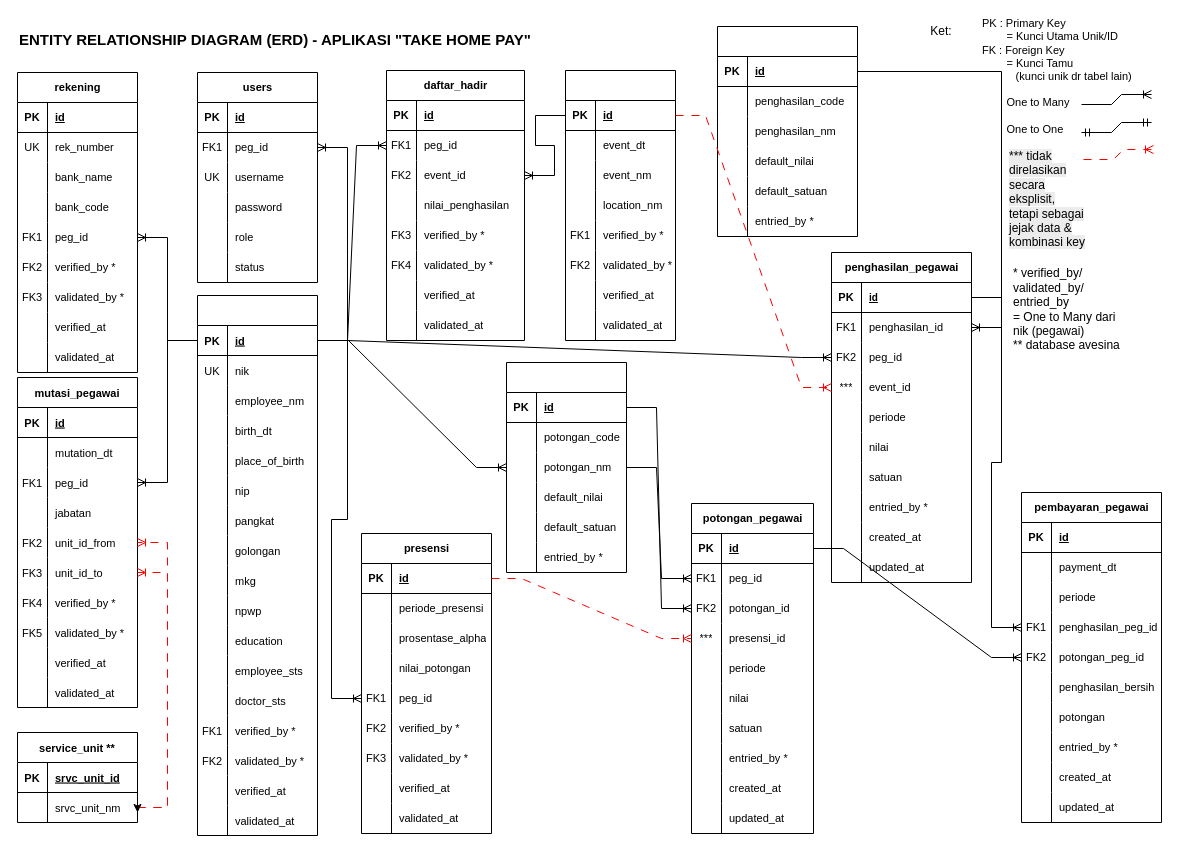
Some shapes in this 1179 by 853 pixel diagram are drawn without their labels. Each missing label, with the box of its shape:
kegiatan: (564, 70, 676, 340)
komponen_penghasilan: (716, 26, 858, 236)
komponen_potongan: (506, 362, 626, 572)
pegawai: (196, 294, 318, 836)
